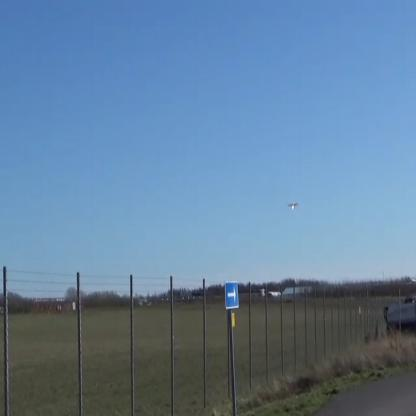CIV_Plane: (284, 198, 302, 214)
